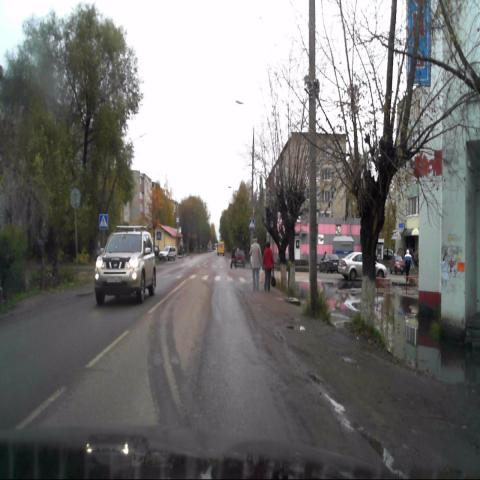5_19_1: (99, 214, 108, 230)
